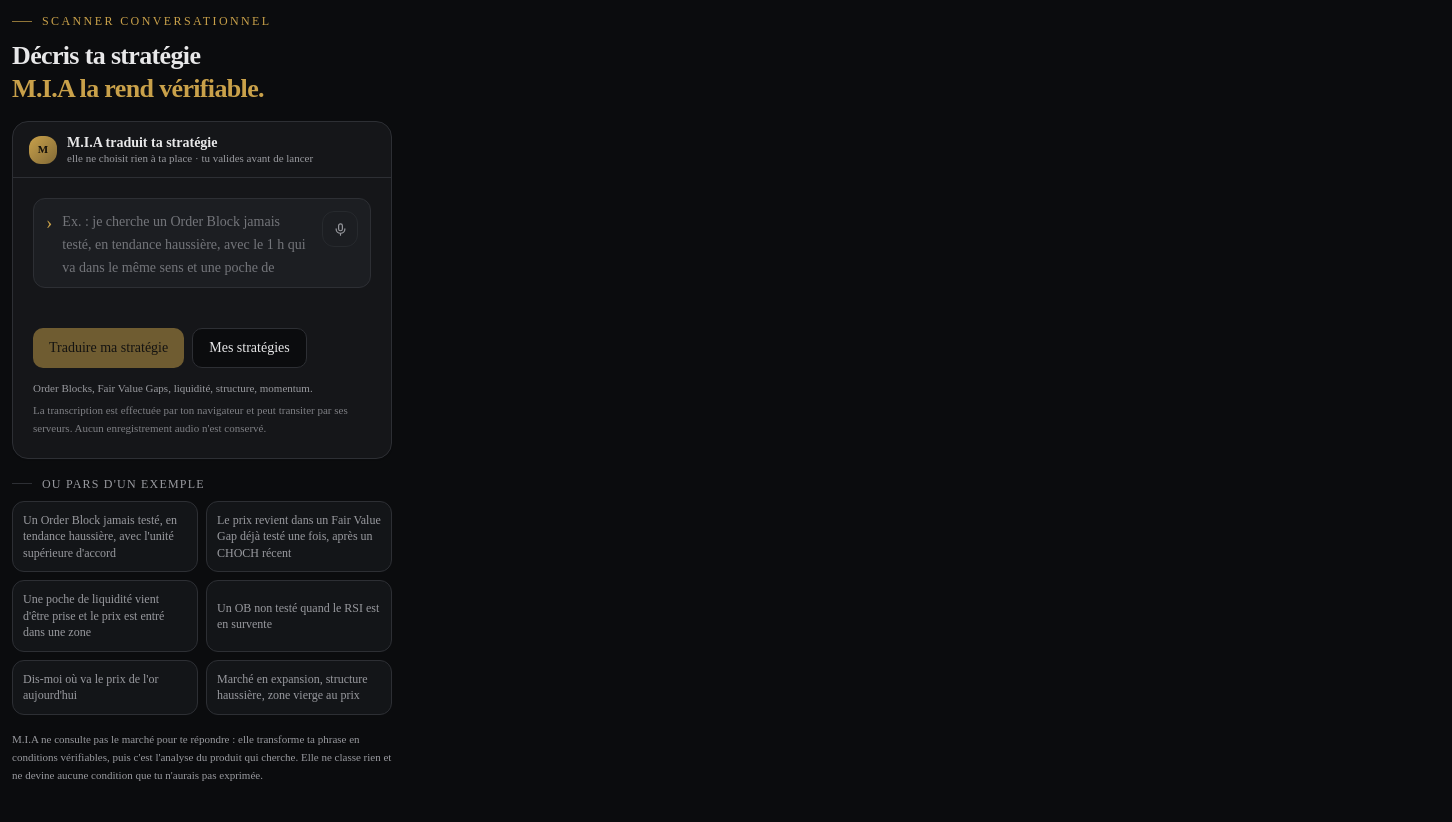
SC-4 — a refusal never takes the field down with it › renders in place and keeps the text on screen
Replace the text in the text box with test id "describe-input" with "Quels sont les meilleurs marchés à trader" at x=187, y=243, box [62,211,312,275]
Wait 2300 ms
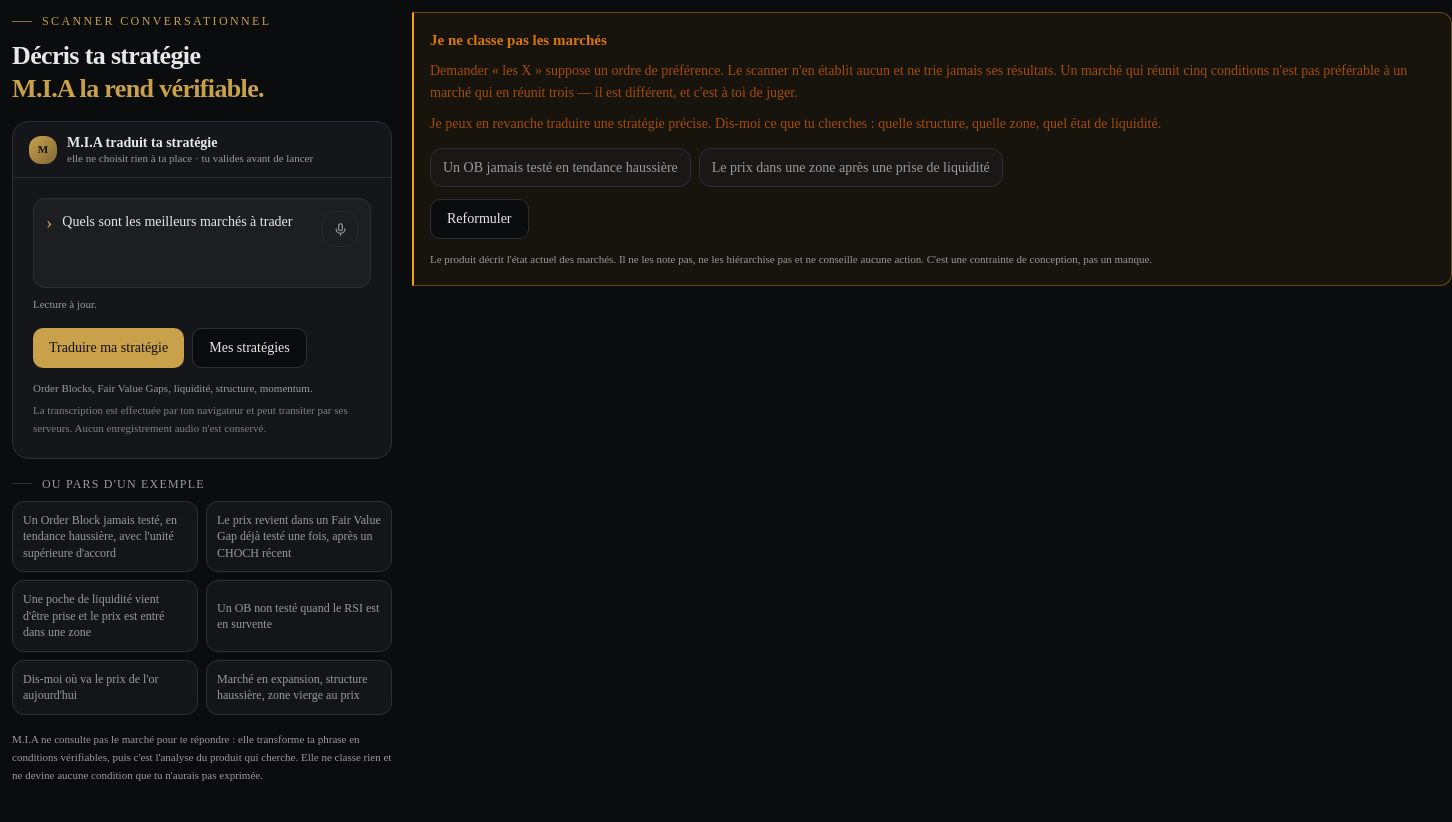
Result: the element with test id "refusal-block" is shown at [412,12,1451,286]
